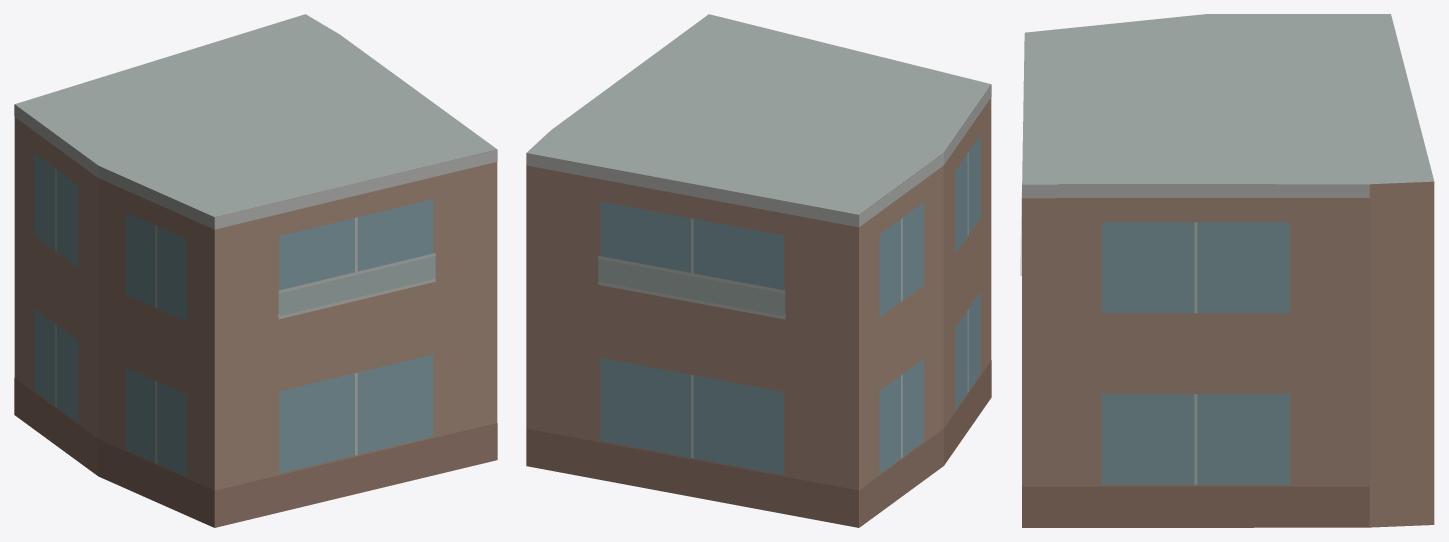
File: survey-upis-32474068.glb
The picture shows the model from 3 angles, left to right: view 1: azimuth 30°, elevation 25°; view 2: azimuth 150°, elevation 25°; view 3: azimuth 270°, elevation 25°; orthographic projection. The views are drawn at different scales.
Visible parts, largest first — view 1: survey-upis-32474068.tmp; view 2: survey-upis-32474068.tmp; view 3: survey-upis-32474068.tmp.
Boxes of the visible parts, <box> form: survey-upis-32474068.tmp: <box>14,14,497,527</box>; survey-upis-32474068.tmp: <box>526,14,991,527</box>; survey-upis-32474068.tmp: <box>1020,14,1434,527</box>.
Bounding box in the file's own units: 6.51 × 6.1 × 6.68.
